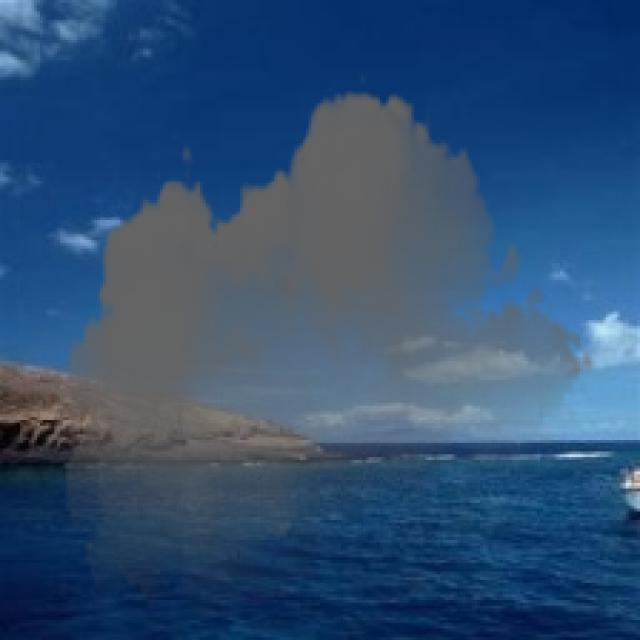Smoke: (54, 71, 597, 623)
